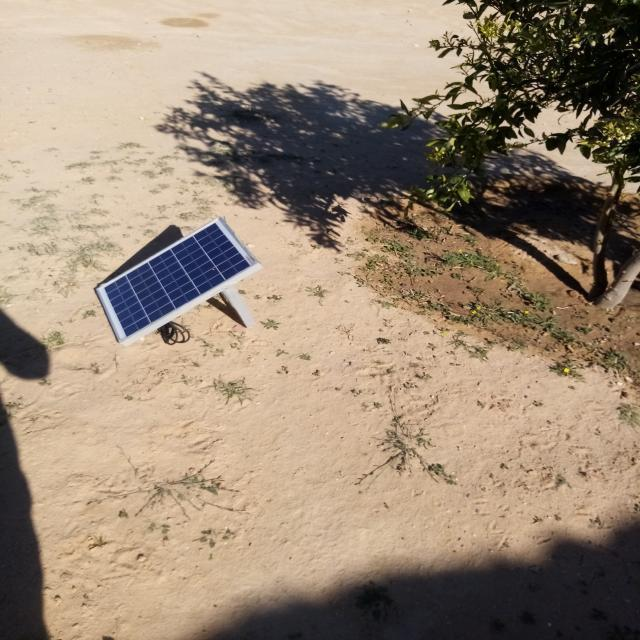Normal Solar Panel: (95, 218, 256, 341)
